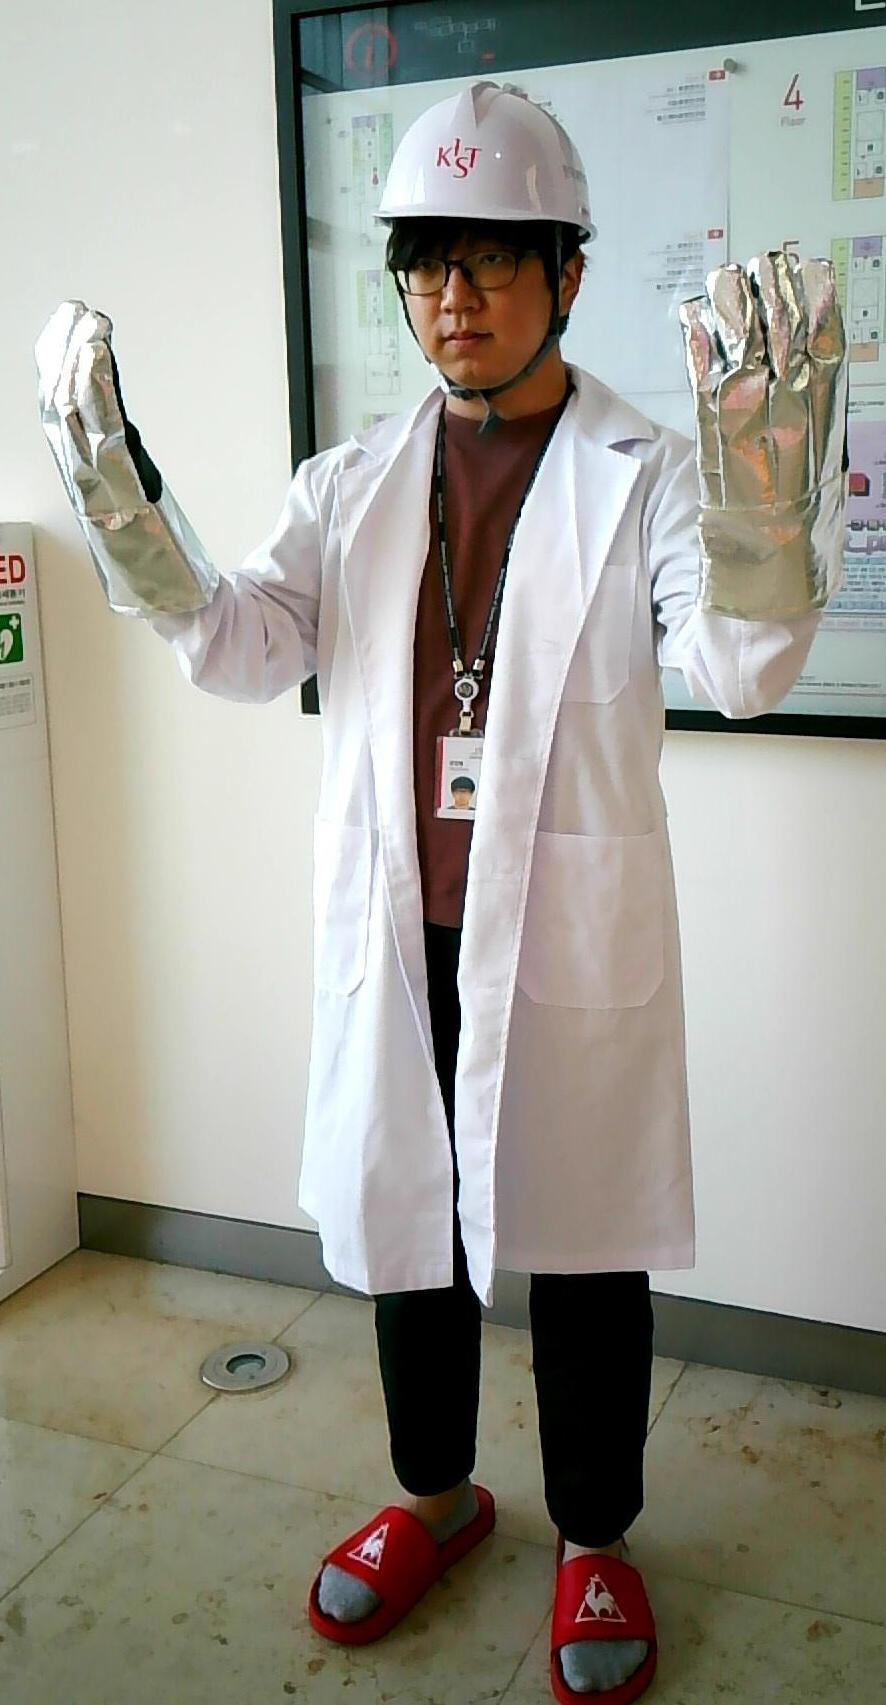lab_coat: (278, 421, 694, 1275)
